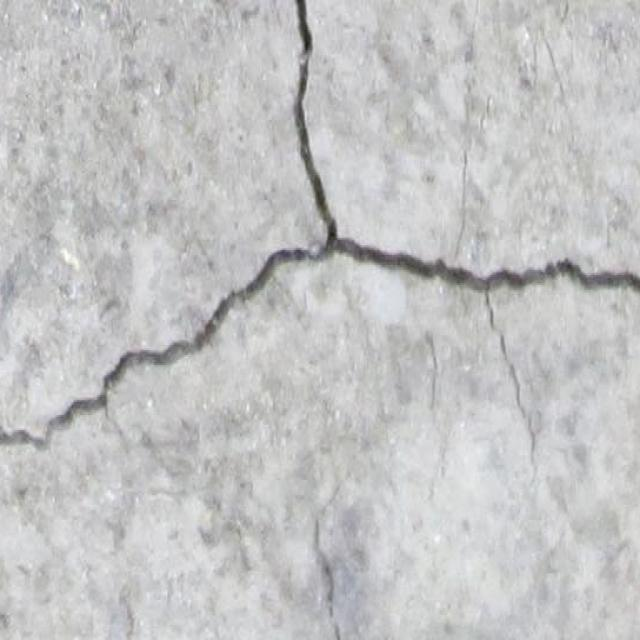crack: (2, 0, 639, 463), (312, 474, 356, 638)
